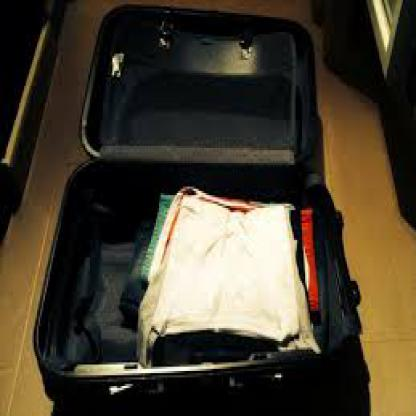maleta: (23, 2, 378, 414)
